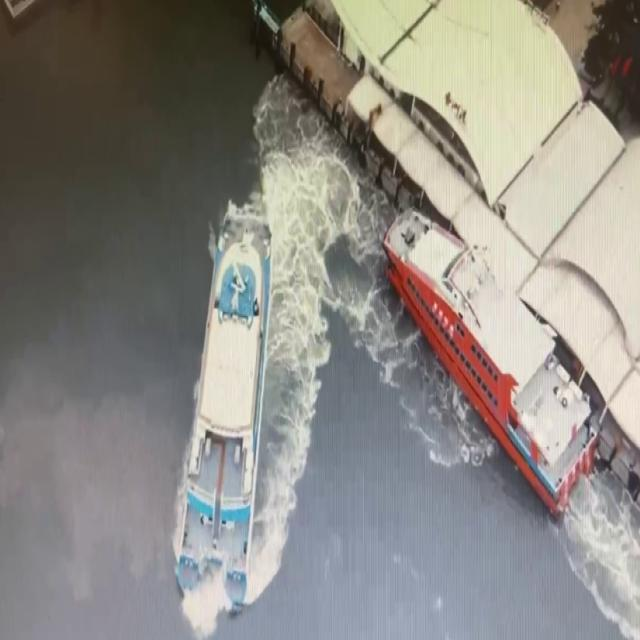houseboat: (382, 204, 602, 516), (172, 194, 274, 618)
